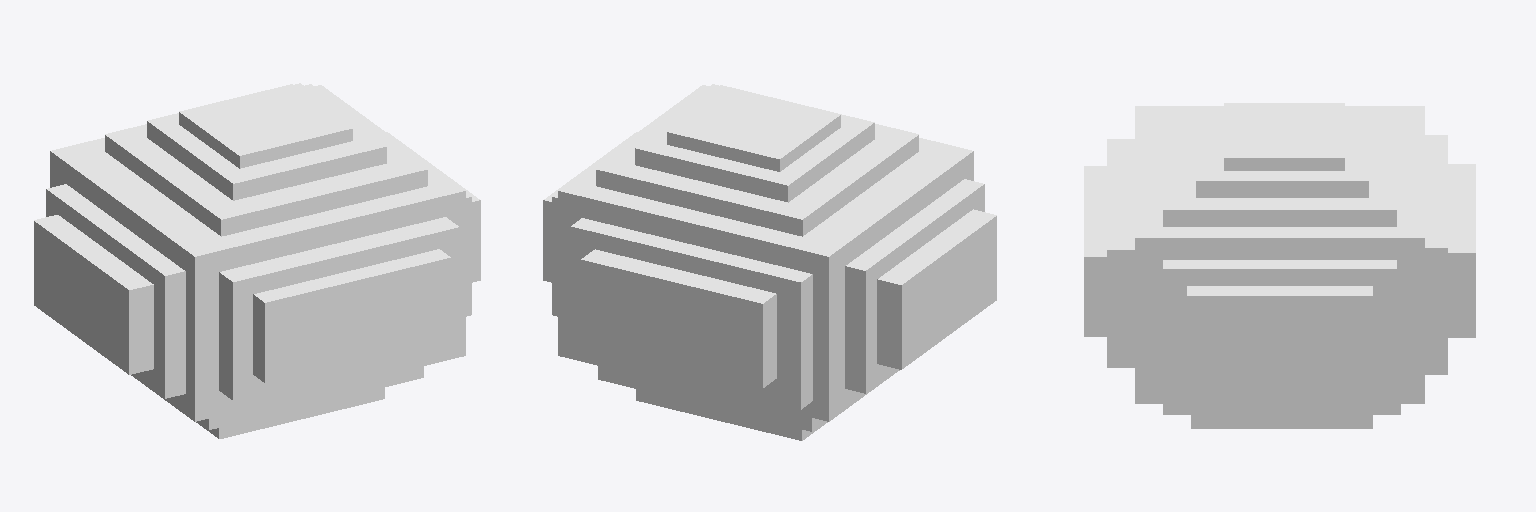
The model's file is bush1-0-lod2.obj.
The picture shows the model from 3 angles: view 1: azimuth 30°, elevation 25°; view 2: azimuth 150°, elevation 25°; view 3: azimuth 270°, elevation 25°; orthographic projection.
Parts seen in each view (by area): view 1: lod2; view 2: lod2; view 3: lod2.
Boxes of the visible parts, x1=… form: lod2: x1=34, y1=83, x2=480, y2=438; lod2: x1=543, y1=84, x2=996, y2=440; lod2: x1=1084, y1=103, x2=1475, y2=428.
Size of the model in its own units: 8.8 by 6.2 by 8.4.